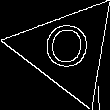O_S: (41, 22, 94, 78)
